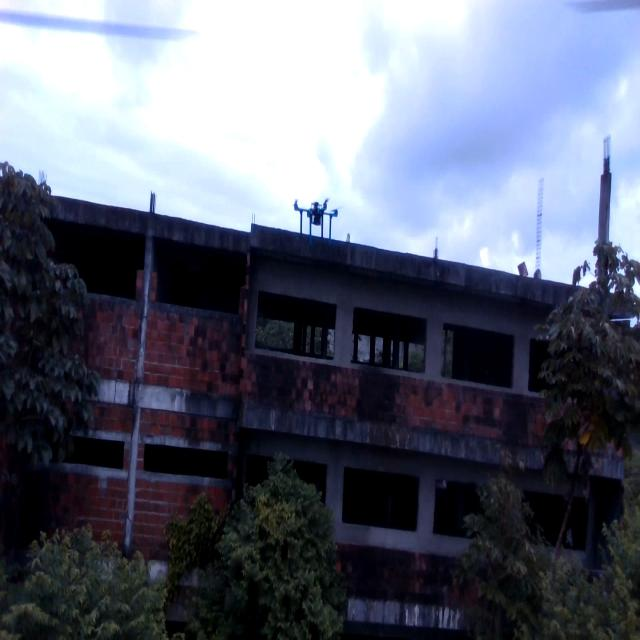-uav-: (284, 178, 348, 256)
